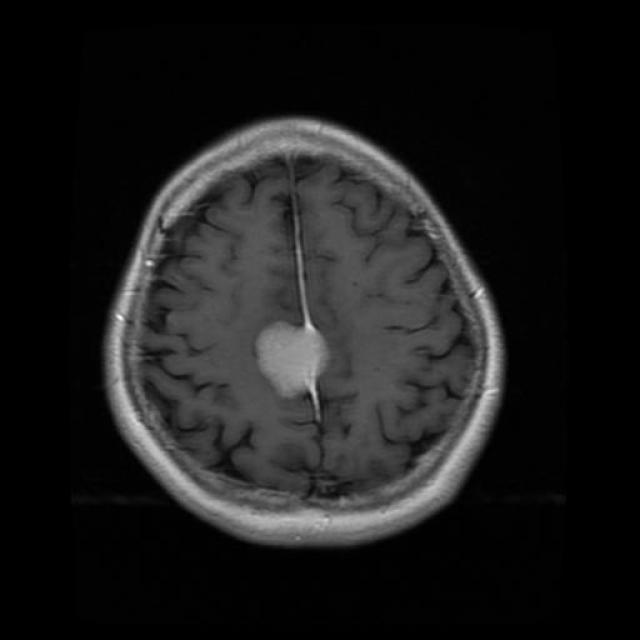meningioma: (256, 319, 330, 401)
